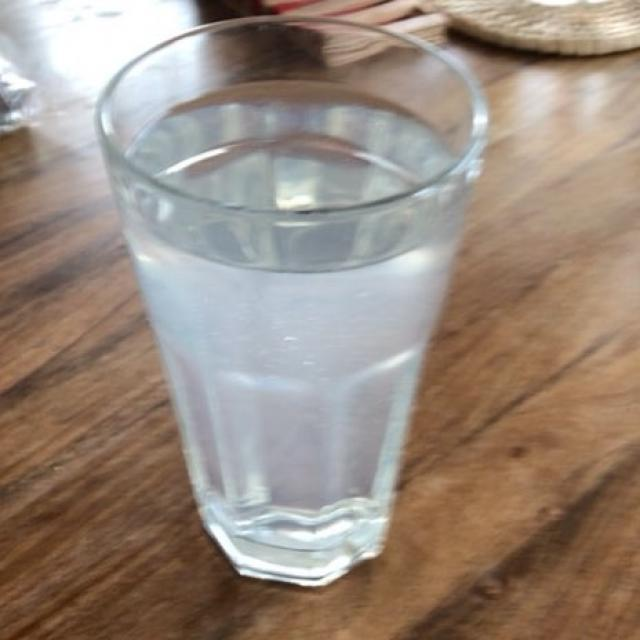drink: (114, 99, 455, 568)
